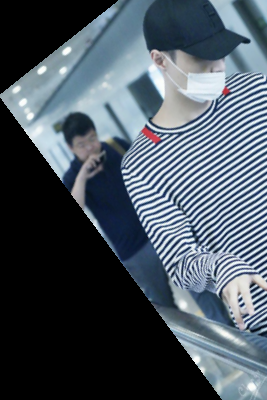mask_weared_incorrect: (140, 2, 253, 120)
